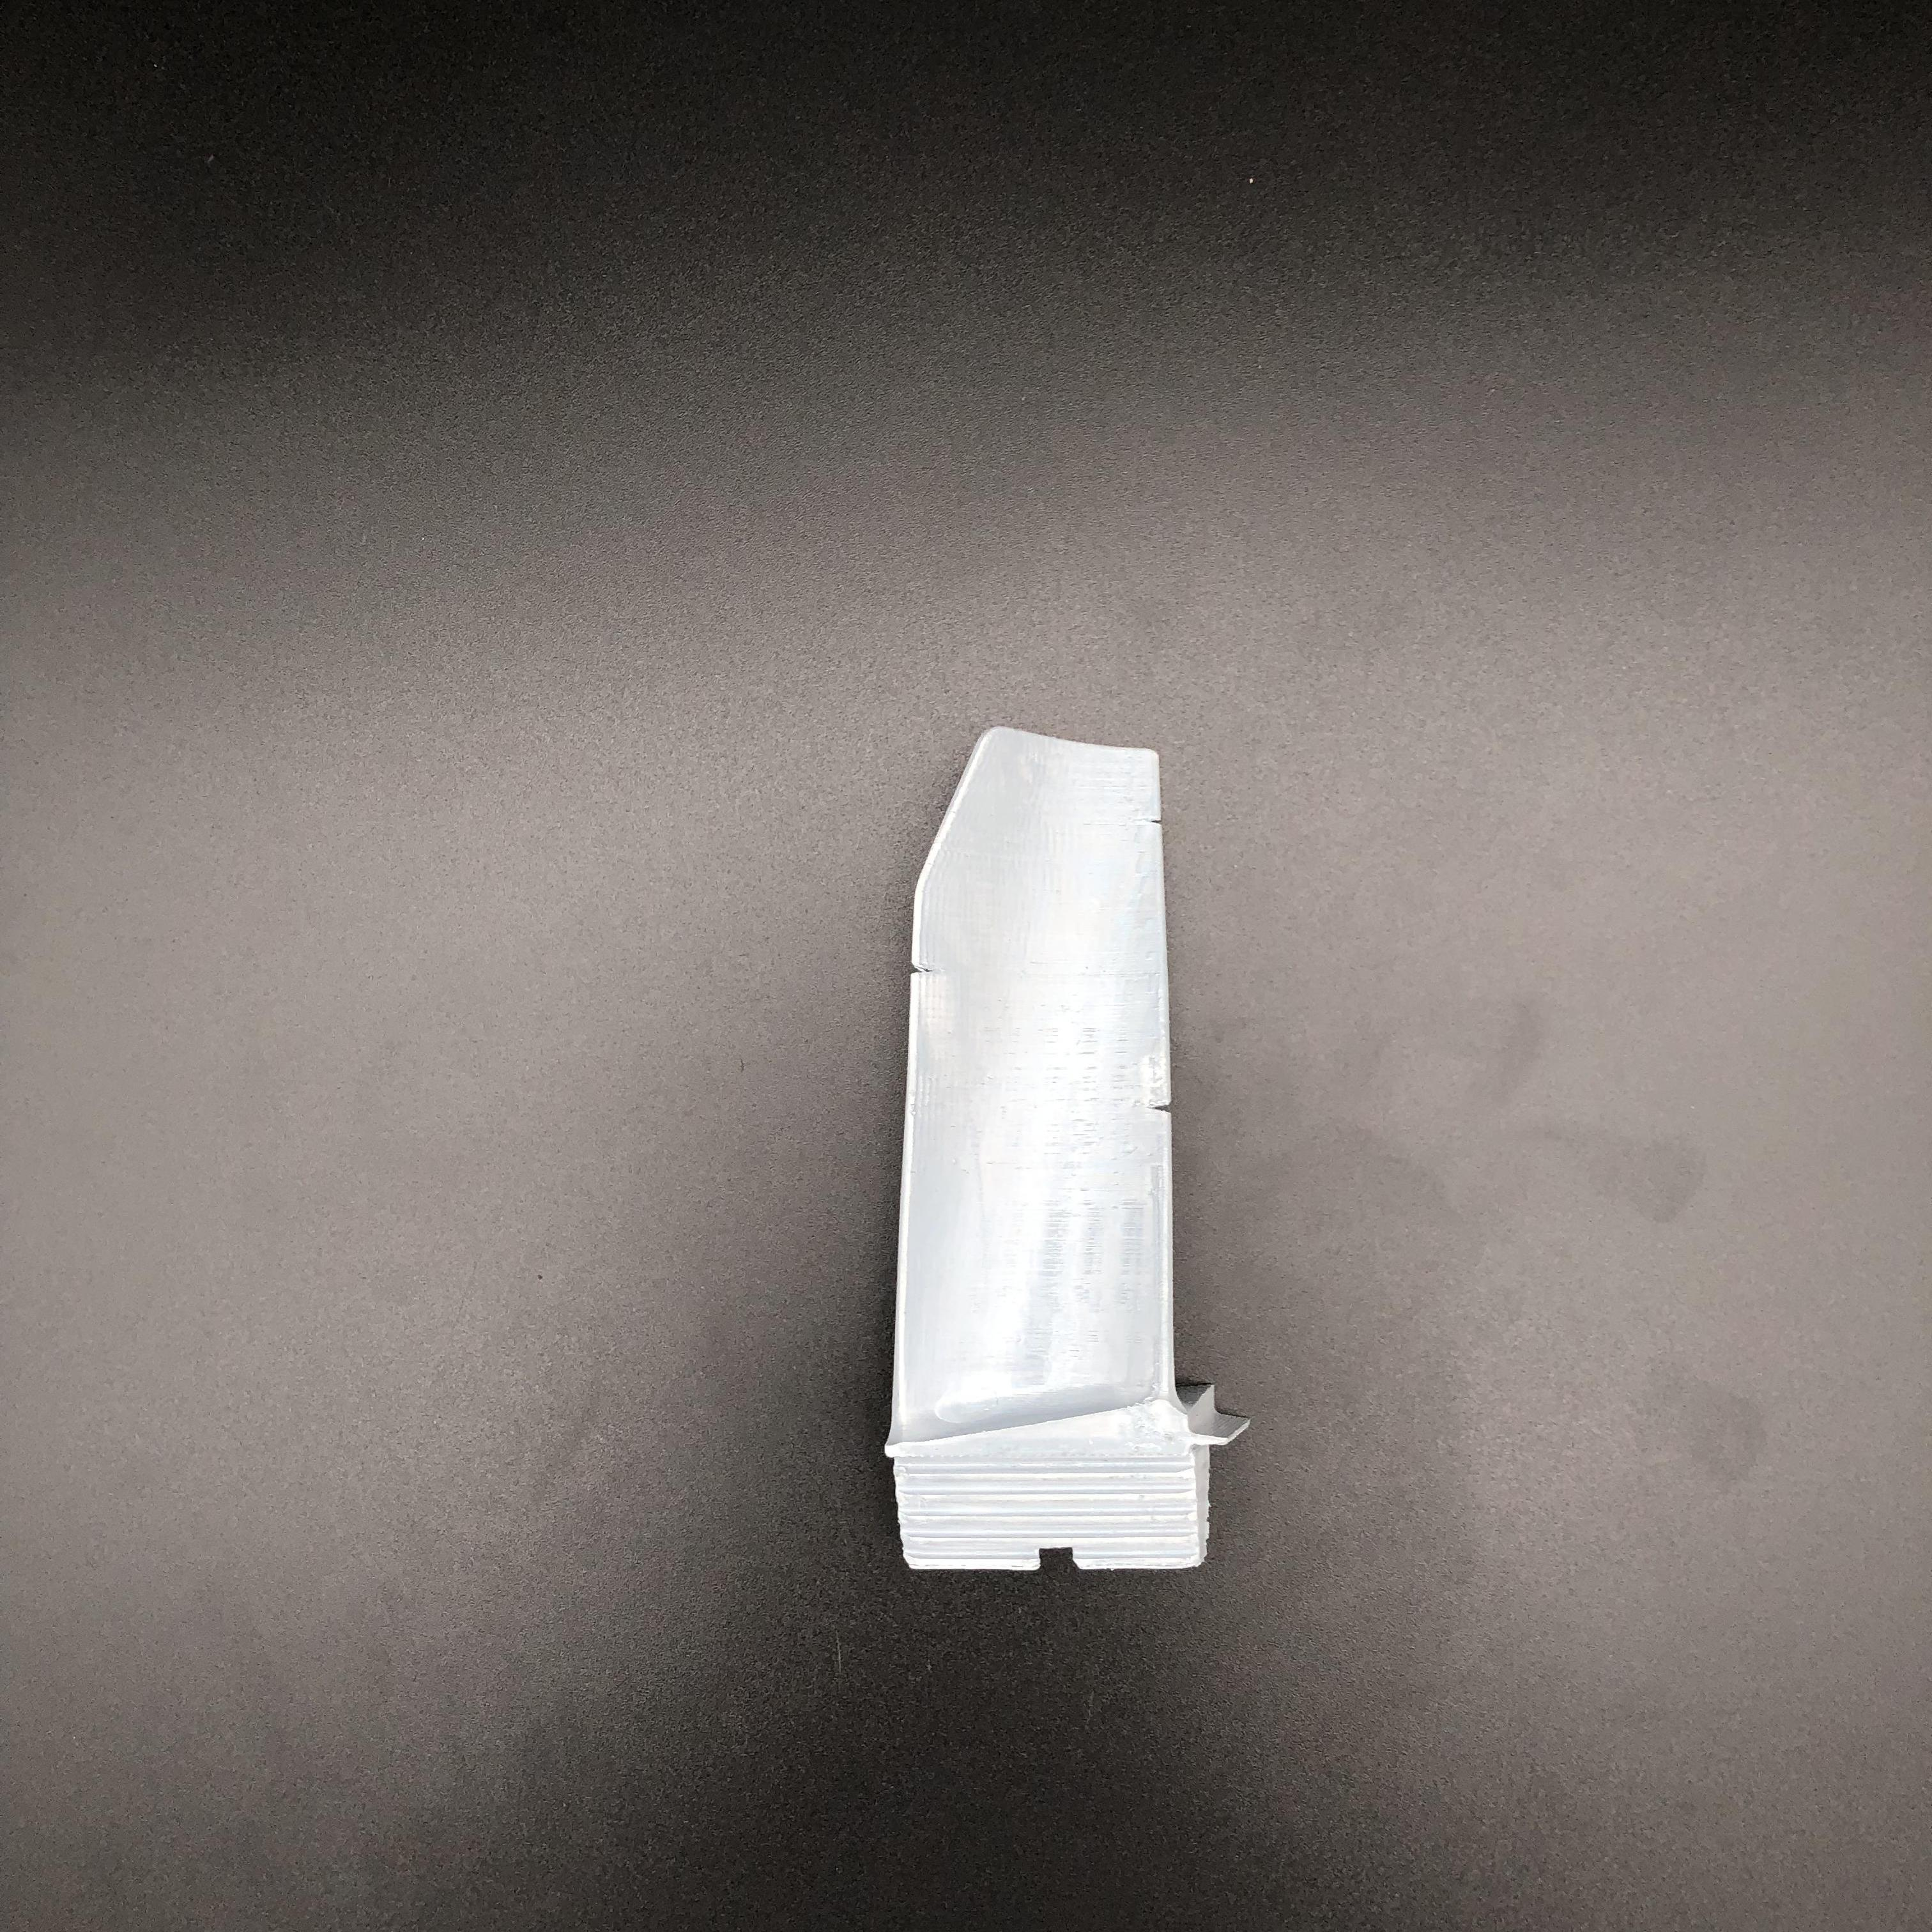groove: (904, 954, 941, 984), (1150, 1095, 1177, 1123), (1141, 810, 1168, 830)
